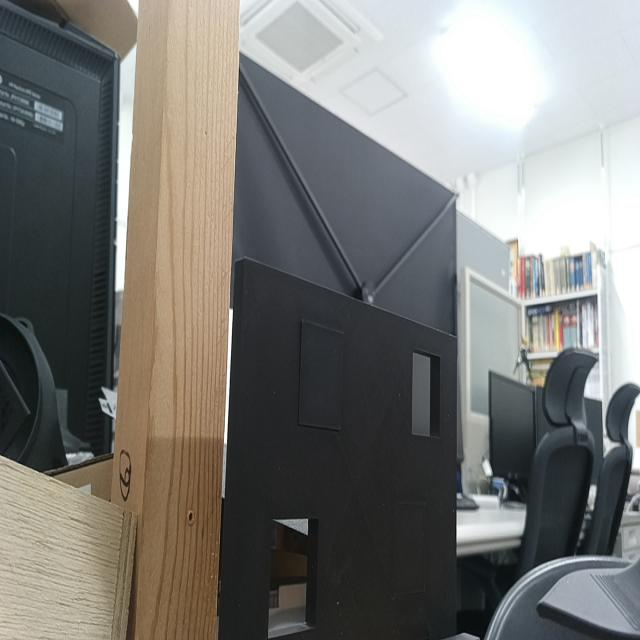Obstacle: (268, 518, 320, 633), (413, 348, 441, 435)
Wall: (235, 257, 459, 639)
